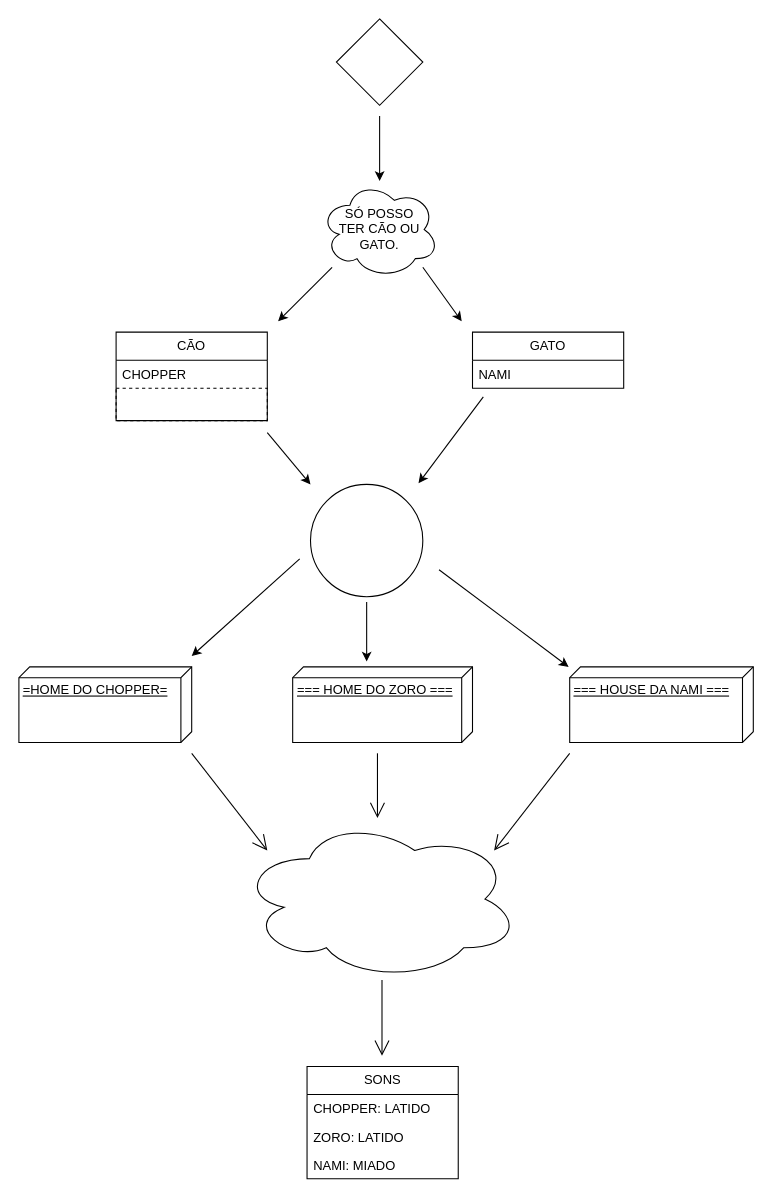
The diagram is 772 pixels wide and 1201 high, and some of its shapes have lost their labels. Each missing label, with the centre of its shape:
"CADA PET POSSUI A SUA HOME" belongs at (366,540).
"CADA VEZ QUE CHAMAR O NOME DE UM ANIMAL ELE FARÁ O SEU RESPECTIVO SOM" belongs at (379,898).
"HOUSE" belongs at (379,61).
"ZORO" belongs at (191,404).
